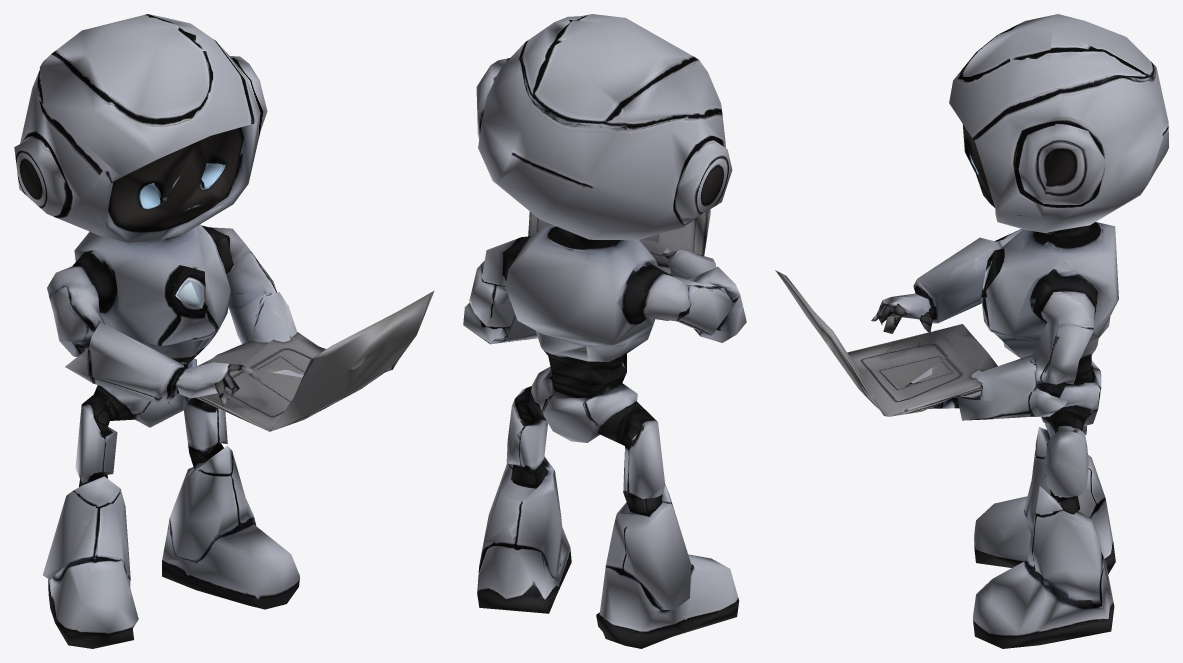
File: joseph.glb
3 views of the same model, side by side, from view 1: azimuth 30°, elevation 25°; view 2: azimuth 150°, elevation 25°; view 3: azimuth 270°, elevation 25° (orthographic). The views are drawn at different scales.
Visible parts, largest first — view 1: tripo_node_8bbe689a-29e9-4648-9f48-9d42a53198d9; view 2: tripo_node_8bbe689a-29e9-4648-9f48-9d42a53198d9; view 3: tripo_node_8bbe689a-29e9-4648-9f48-9d42a53198d9.
Part boxes in pixels (<box>): tripo_node_8bbe689a-29e9-4648-9f48-9d42a53198d9: <box>14,14,434,648</box>; tripo_node_8bbe689a-29e9-4648-9f48-9d42a53198d9: <box>463,14,746,648</box>; tripo_node_8bbe689a-29e9-4648-9f48-9d42a53198d9: <box>775,14,1168,648</box>.
Bounding box in the file's own units: 0.5206 × 0.9796 × 0.621.
1 material, 1 textured.
